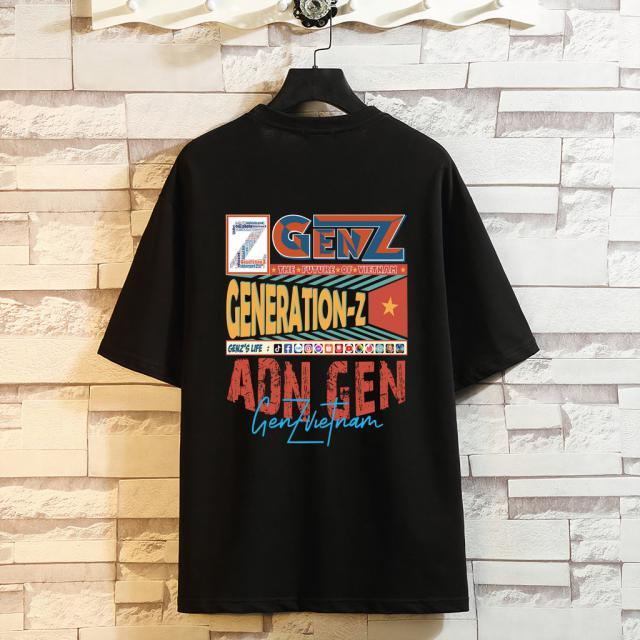Shirt: (94, 98, 542, 622)
